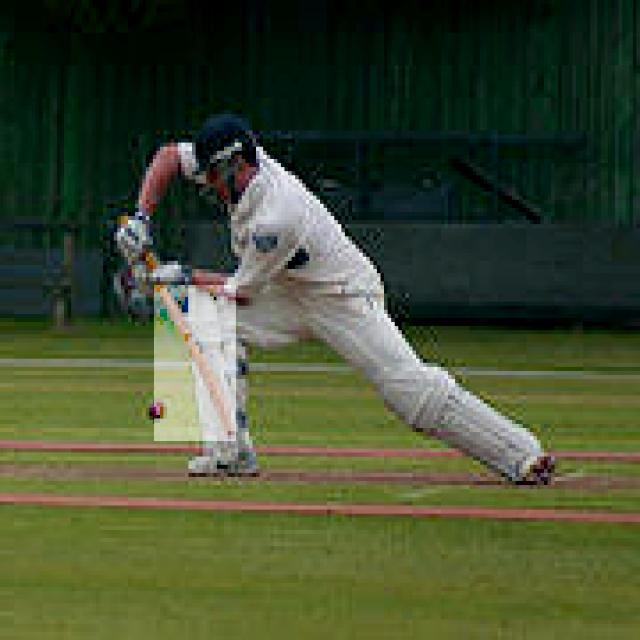bat: (157, 283, 239, 439)
